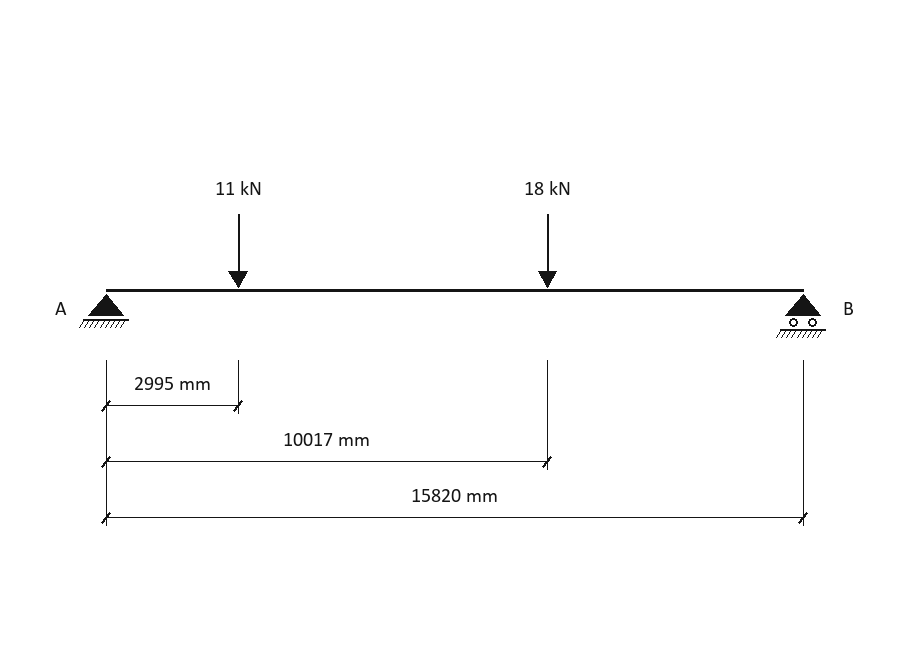pin_support: (79, 294, 129, 328)
point_load: (228, 214, 248, 288), (538, 214, 557, 288)
roller_support: (776, 294, 826, 338)
